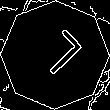L_SW: (26, 26, 84, 84)
